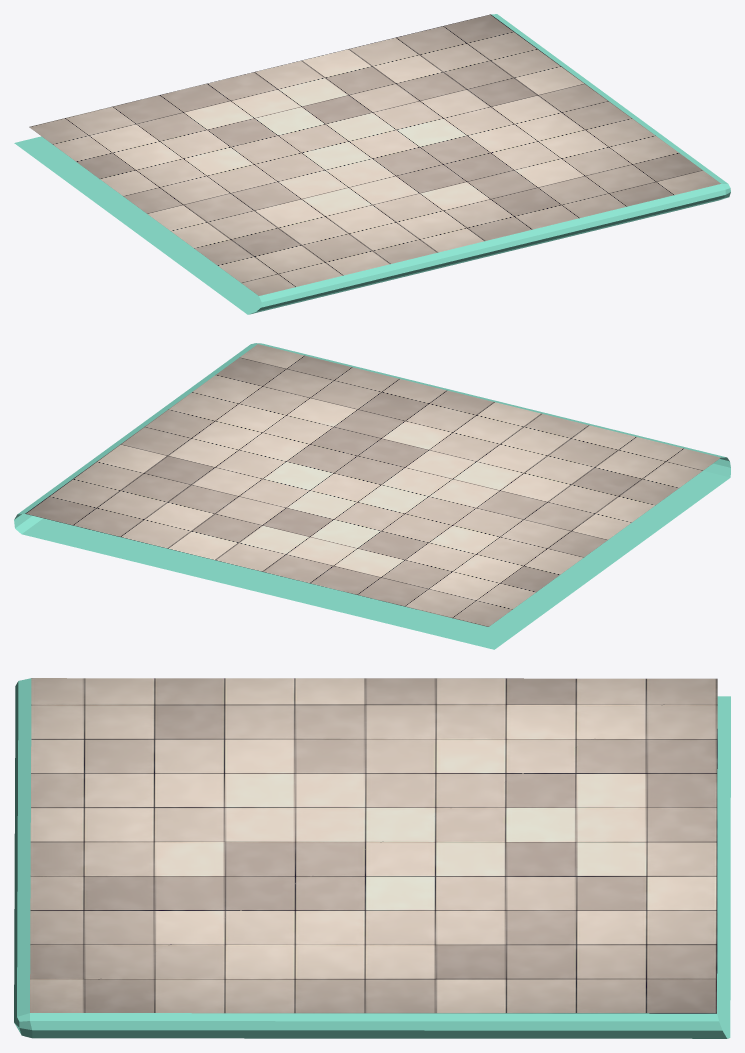
The model's file is PisoCocina.glb.
3 views of the same model, one above another, from view 1: azimuth 30°, elevation 25°; view 2: azimuth 150°, elevation 25°; view 3: azimuth 270°, elevation 25° (orthographic). The views are drawn at different scales.
Parts seen in each view (by area): view 1: Piso; view 2: Piso; view 3: Piso.
Part boxes in pixels (bbox=[...]): Piso: bbox=[14, 14, 730, 314]; Piso: bbox=[14, 343, 730, 649]; Piso: bbox=[14, 678, 730, 1038].
Bounding box in the file's own units: 11.44 × 0.3825 × 9.92.
Materials: 2 (1 with a texture image).
